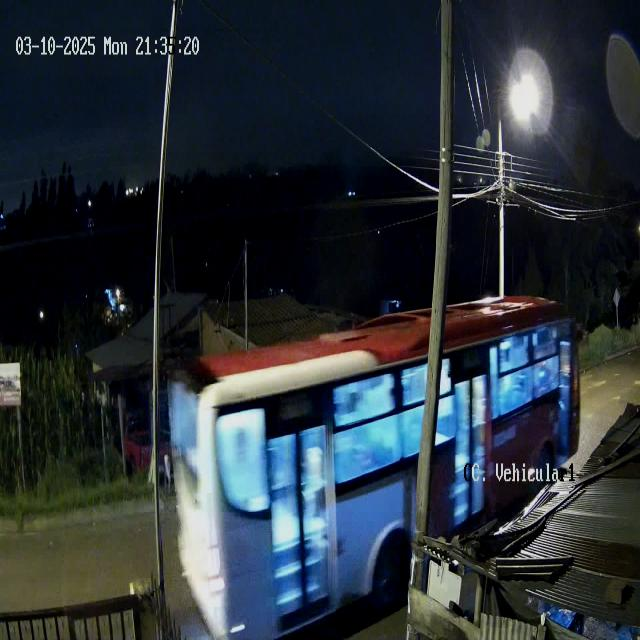BUS: (164, 291, 583, 637)
